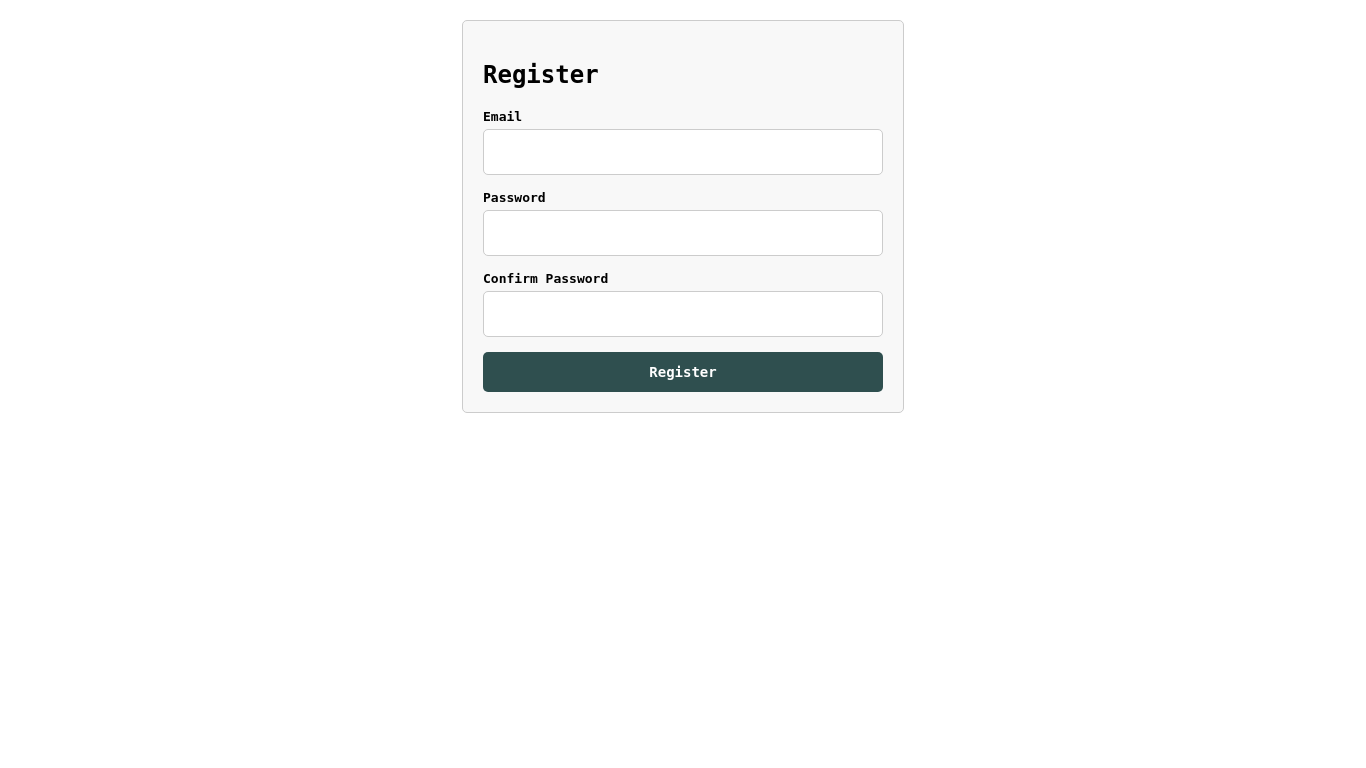
Register component › should display an error message on registration failure
Click the button "Register": [683, 372] box [483,352,883,392]
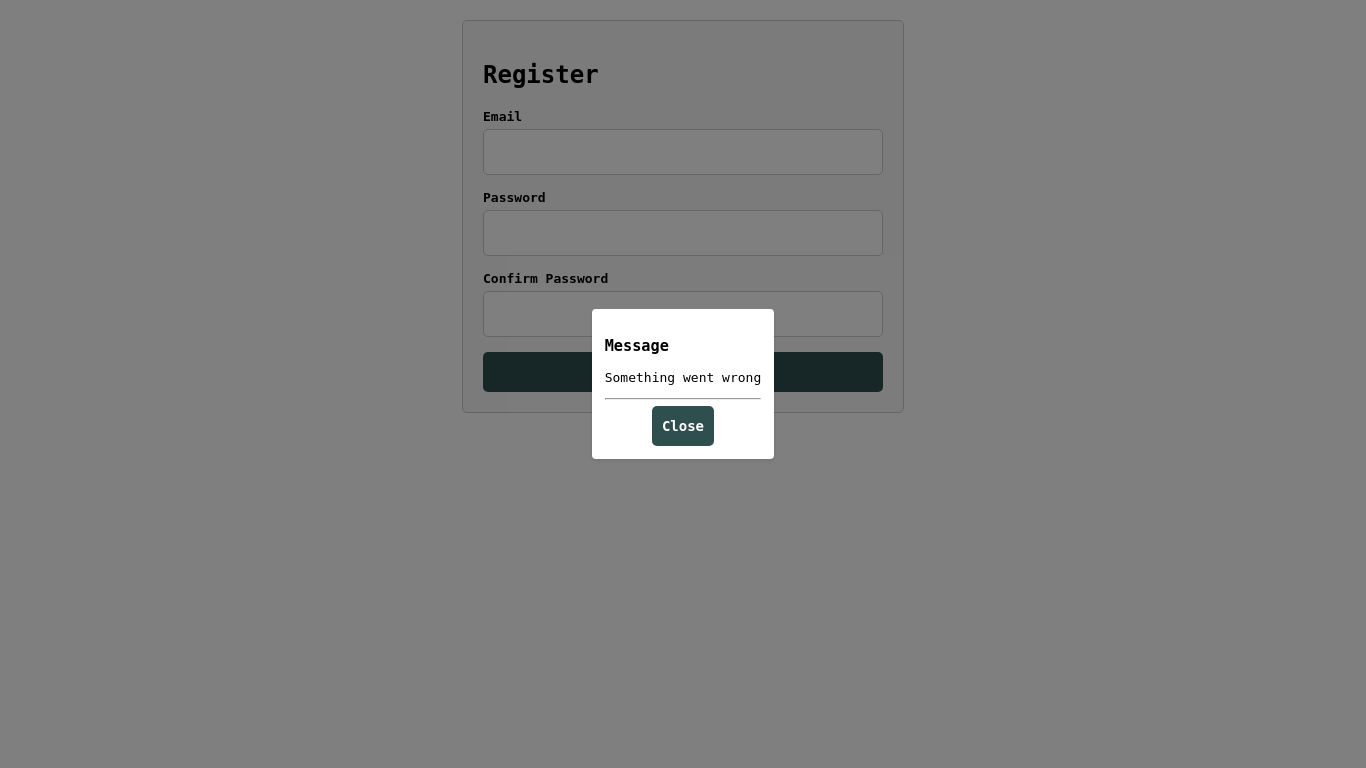
Expected: the text "Something went wrong" is shown, [605,370,761,385]
